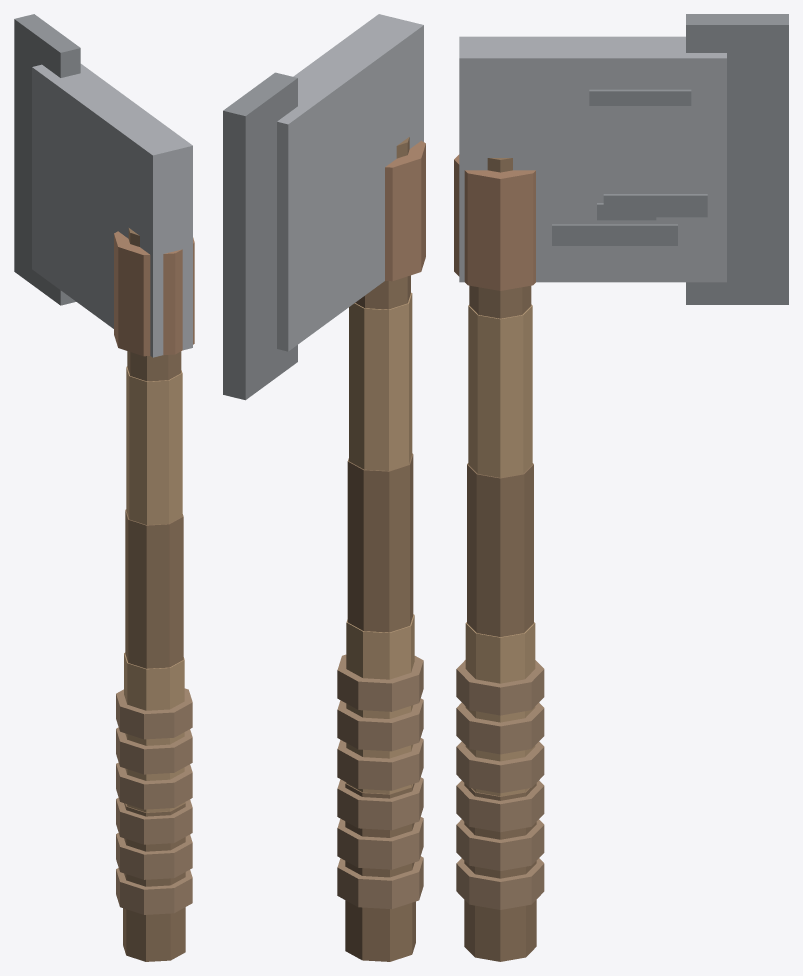
Rendered from metal_hatchet.glb.
3 renders of one model, left to right at view 1: azimuth 30°, elevation 25°; view 2: azimuth 150°, elevation 25°; view 3: azimuth 270°, elevation 25°, orthographic. The views are drawn at different scales.
Visible parts, largest first — view 1: metal_hatchet; view 2: metal_hatchet; view 3: metal_hatchet.
Boxes of the visible parts, x1,y1,x2,y2 form: metal_hatchet: [14, 14, 194, 961]; metal_hatchet: [223, 14, 425, 961]; metal_hatchet: [454, 14, 788, 961].
Size of the model in its own units: 0.09 by 0.9934 by 0.325.
